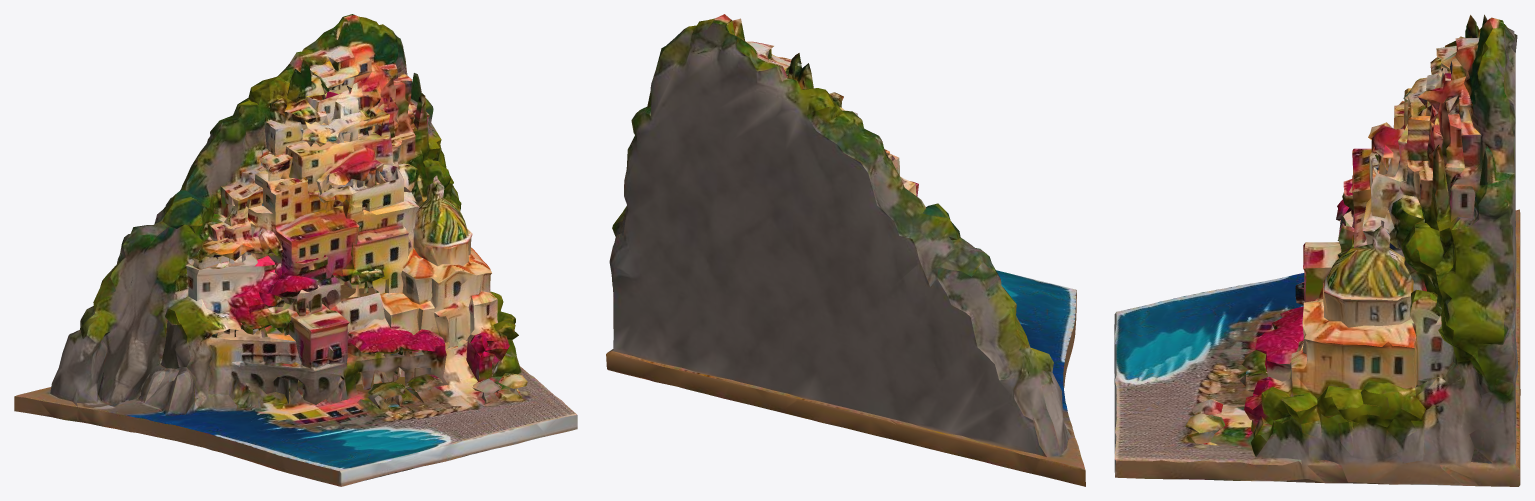
The model's file is positano.glb.
The picture shows the model from 3 angles, left to right: view 1: azimuth 30°, elevation 25°; view 2: azimuth 150°, elevation 25°; view 3: azimuth 270°, elevation 25°; orthographic projection. The views are drawn at different scales.
Visible parts, largest first — view 1: logan-textured.obj; view 2: logan-textured.obj; view 3: logan-textured.obj.
Part boxes in pixels (x1,y1,x2,y2): logan-textured.obj: (14, 14, 577, 486); logan-textured.obj: (606, 14, 1085, 486); logan-textured.obj: (1114, 14, 1520, 486).
Bounding box in the file's own units: 1 × 0.7371 × 0.6579.
Materials: 1 (1 with a texture image).
